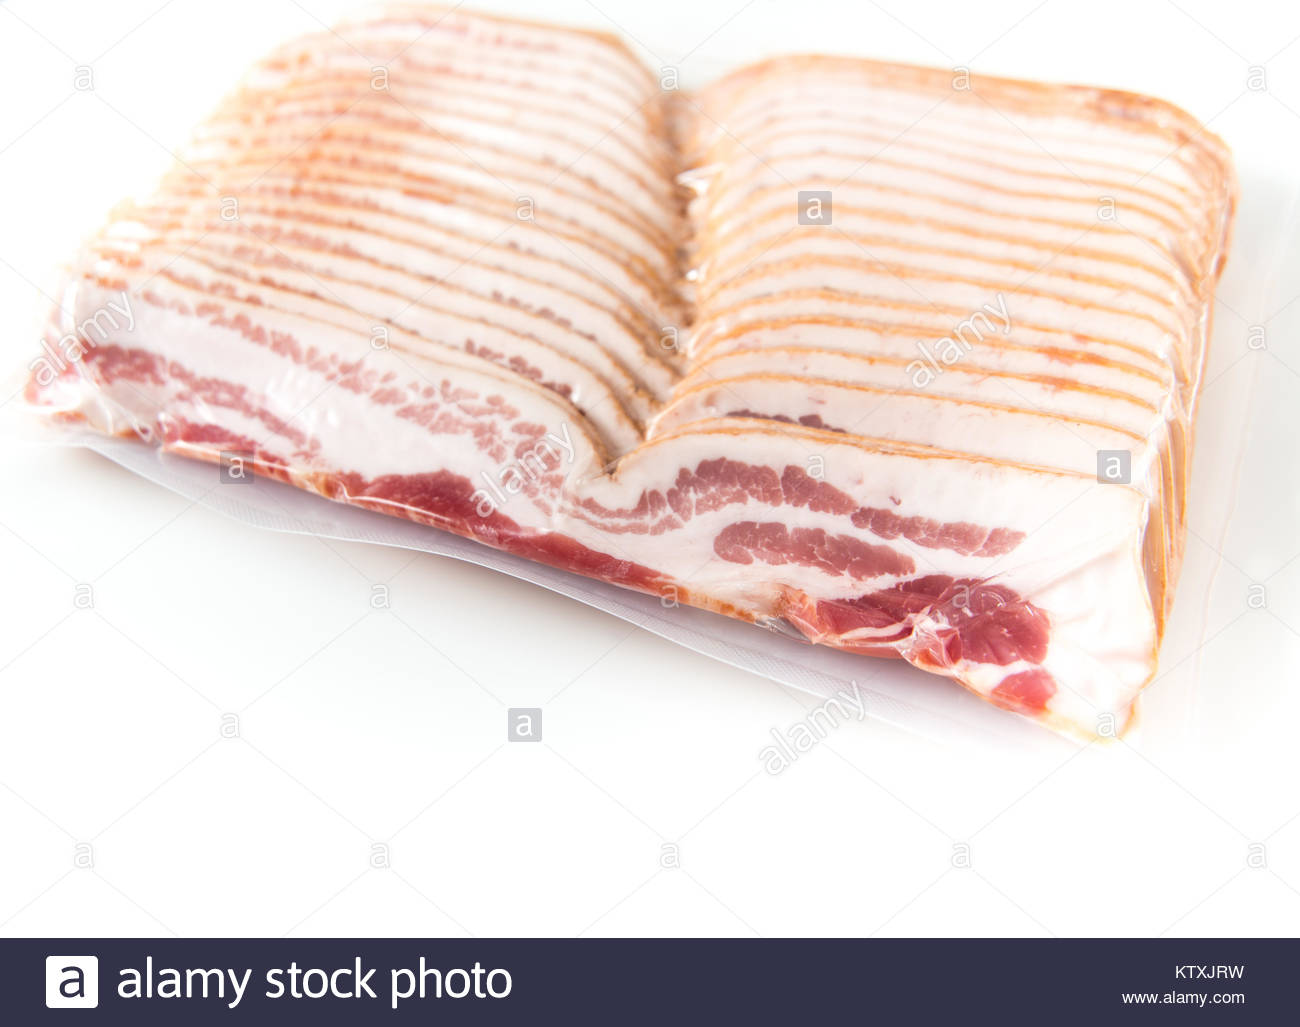bacon: (113, 12, 1219, 699)
